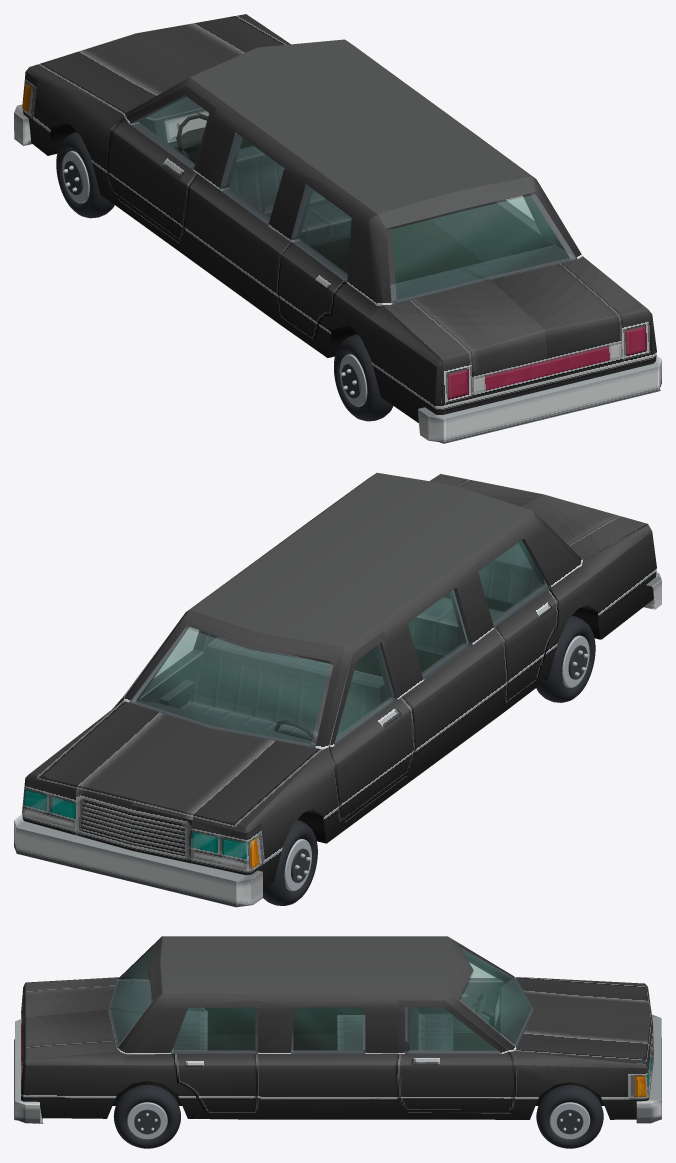
File: car-climo.glb
The picture shows the model from 3 angles, top to bottom: view 1: azimuth 30°, elevation 25°; view 2: azimuth 150°, elevation 25°; view 3: azimuth 270°, elevation 25°; orthographic projection. The views are drawn at different scales.
Parts seen in each view (by area): view 1: cLimoShape.002, cLimoShape.001, cLimoShape.006, cLimoShape.005, cLimoShape.004, cLimoShape.003, DoorDRotShape.041, cLimoShape, DoorDRotShape.043, Rounded tire.065, Rounded tire.066, DoorDRotShape.042 (+2 smaller); view 2: cLimoShape.003, cLimoShape.002, cLimoShape.006, cLimoShape.005, cLimoShape.004, DoorDRotShape.041, cLimoShape.001, DoorDRotShape.043, cLimoShape, DoorPRotShape.047, Rounded tire.065, Rounded tire.066 (+4 smaller); view 3: cLimoShape.002, cLimoShape.006, cLimoShape.005, cLimoShape.003, cLimoShape.004, cLimoShape.001, DoorPRotShape.046, cLimoShape, DoorPRotShape.048, Rounded tire.064, Rounded tire.067, DoorDRotShape.042 (+5 smaller).
Boxes of the visible parts, left/top/right/bottom form: cLimoShape.002: left=26, top=42, right=656, bottom=422; cLimoShape.001: left=383, top=256, right=661, bottom=443; cLimoShape.006: left=190, top=39, right=535, bottom=228; cLimoShape.005: left=223, top=135, right=575, bottom=303; cLimoShape.004: left=139, top=97, right=577, bottom=310; cLimoShape.003: left=14, top=14, right=290, bottom=146; DoorDRotShape.041: left=106, top=86, right=216, bottom=243; cLimoShape: left=48, top=112, right=482, bottom=366; DoorDRotShape.043: left=132, top=96, right=208, bottom=168; Rounded tire.065: left=334, top=334, right=393, bottom=421; Rounded tire.066: left=56, top=132, right=114, bottom=218; DoorDRotShape.042: left=110, top=87, right=209, bottom=170; cLimoShape.003: left=14, top=701, right=322, bottom=907; cLimoShape.002: left=25, top=475, right=656, bottom=889; cLimoShape.006: left=190, top=472, right=530, bottom=647; cLimoShape.005: left=131, top=540, right=547, bottom=746; cLimoShape.004: left=129, top=538, right=551, bottom=747; DoorDRotShape.041: left=329, top=631, right=417, bottom=825; cLimoShape.001: left=429, top=474, right=661, bottom=609; DoorDRotShape.043: left=335, top=644, right=394, bottom=742; cLimoShape: left=206, top=593, right=601, bottom=843; DoorPRotShape.047: left=112, top=619, right=211, bottom=708; Rounded tire.065: left=536, top=616, right=595, bottom=702; Rounded tire.066: left=263, top=819, right=317, bottom=905; cLimoShape.002: left=21, top=936, right=647, bottom=1119; cLimoShape.006: left=148, top=936, right=462, bottom=1000; cLimoShape.005: left=110, top=947, right=532, bottom=1052; cLimoShape.003: left=515, top=977, right=661, bottom=1123; cLimoShape.004: left=108, top=945, right=534, bottom=1054; cLimoShape.001: left=14, top=977, right=119, bottom=1123; DoorPRotShape.046: left=395, top=1000, right=516, bottom=1112; cLimoShape: left=112, top=993, right=635, bottom=1119; DoorPRotShape.048: left=405, top=1007, right=500, bottom=1052; Rounded tire.064: left=113, top=1084, right=180, bottom=1148; Rounded tire.067: left=536, top=1084, right=603, bottom=1148; DoorDRotShape.042: left=417, top=954, right=509, bottom=1032.
Bounding box in the file's own units: 2.56 × 1.99 × 7.84.
10 materials, 7 textured.
